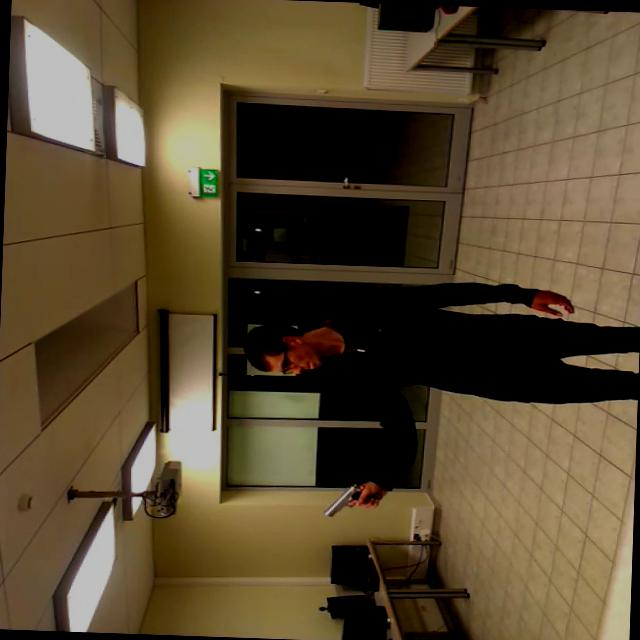handgun: (314, 474, 393, 524)
